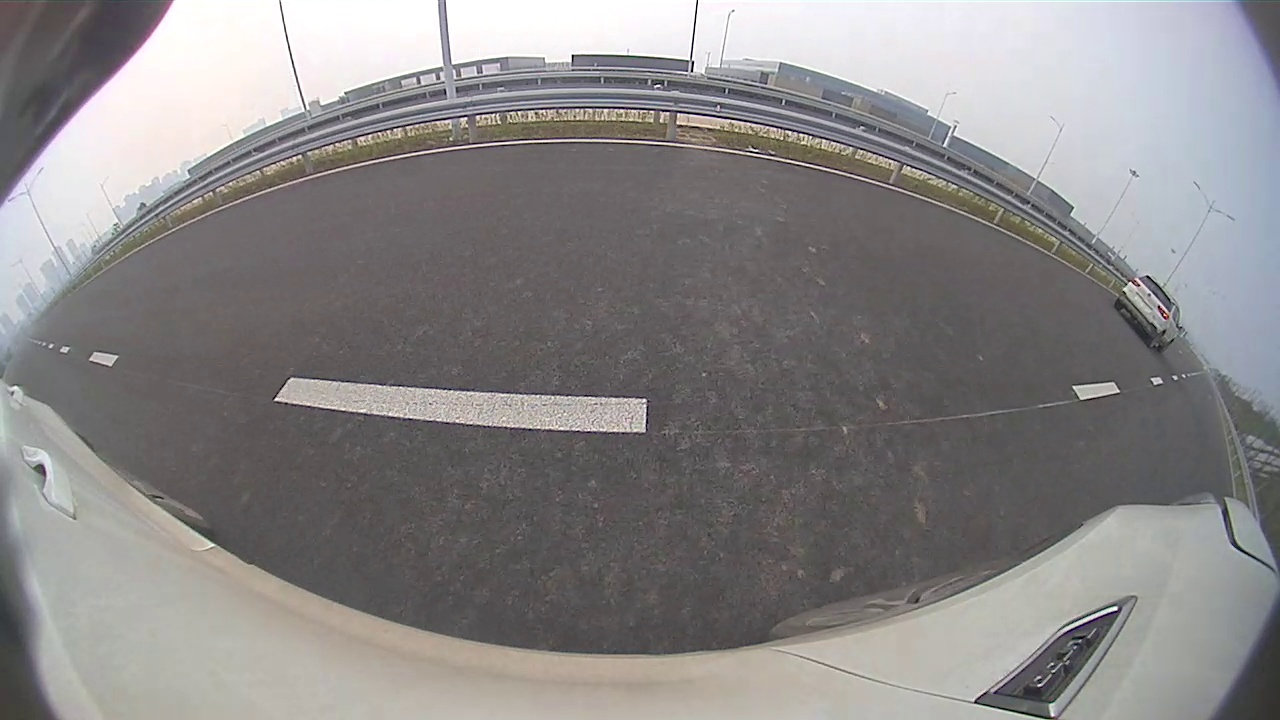car: (1113, 274, 1186, 349)
